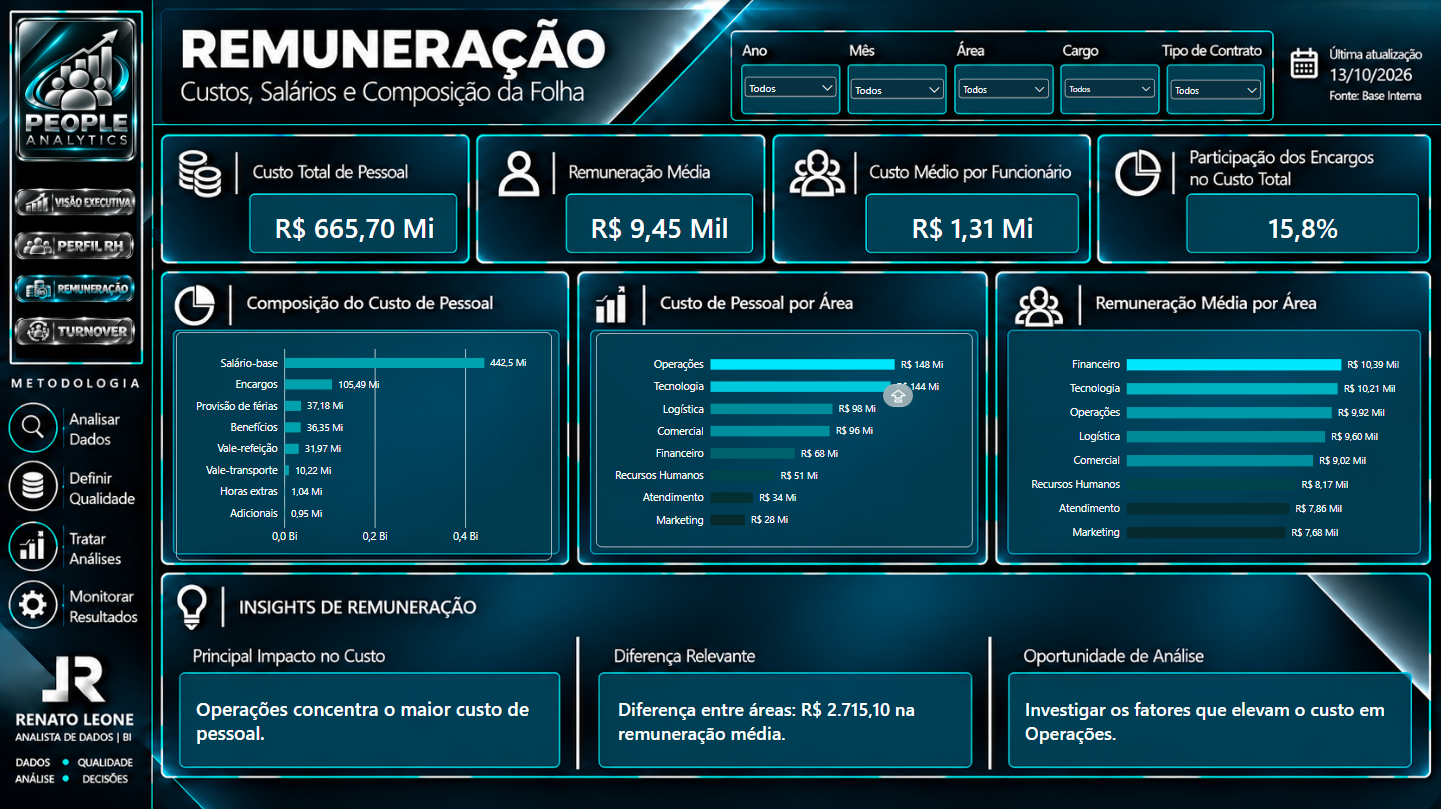

This screenshot's page, from the dashboard's own definition file:
{"tool":"powerbi","page":{"name":"REMUNERAÇÄO","canvas":[1920,1080],"ordinal":2},"visuals":[{"type":"image","box":[14,228,173,83],"z":0},{"type":"image","box":[15,291,171,70],"z":1000},{"type":"image","box":[15,345,172,79],"z":2000},{"type":"image","box":[15,407,170,67],"z":3000},{"type":"image","box":[11.4,22.9,181.4,195.7],"z":4000},{"type":"slicer","fields":{"Values":["funcionarios.area"]},"box":[1271.3,101.7,129.6,42.6],"z":4001},{"type":"slicer","fields":{"Values":["funcionarios.cargo_reduzido"]},"box":[1412.2,101.7,129.6,42.6],"z":4002},{"type":"slicer","fields":{"Values":["funcionarios.tipo_contrato"]},"box":[1553.3,102,130,42.7],"z":4003},{"type":"slicer","fields":{"Values":["dim_calendario.mes_nome_PT"]},"box":[1127.7,101.5,133.8,42.3],"z":4004},{"type":"slicer","fields":{"Values":["dim_calendario.ano"]},"box":[986.9,98.5,132.3,42.3],"z":4005},{"type":"cardVisual","fields":{"Data":["Medidas.Custo Total Pessoal"]},"box":[329.3,260,286.7,85.3],"z":4006},{"type":"cardVisual","fields":{"Data":["Medidas.Remuneração Média"]},"box":[736,260,286.7,85.3],"z":4007},{"type":"cardVisual","fields":{"Data":["Medidas.Custo Médio por Funcionário"]},"box":[1152,260,286.7,85.3],"z":4008},{"type":"cardVisual","fields":{"Data":["Medidas.Participação dos Encargos no Custo Total"]},"box":[1592,260,286.7,85.3],"z":4009},{"type":"clusteredBarChart","fields":{"Category":["Dim_Componente_Custo.Componente"],"Y":["Medidas.Valor Componente Custo"]},"box":[236,442.7,500,304],"z":4010},{"type":"clusteredBarChart","fields":{"Category":["funcionarios.area"],"Y":["Medidas.Custo Total Pessoal"]},"box":[794.7,444,501.3,285.3],"z":4011},{"type":"clusteredBarChart","fields":{"Category":["funcionarios.area"],"Y":["Medidas.Remuneração Média"]},"box":[1349.3,444,529.3,302.7],"z":4012},{"type":"cardVisual","fields":{"Data":["Medidas.Principal Impacto no Custo"]},"box":[246.7,898.7,489.3,120],"z":4013},{"type":"cardVisual","fields":{"Data":["Medidas.Diferença Relevante"]},"box":[808,898.7,456,120],"z":4014},{"type":"cardVisual","fields":{"Data":["Medidas.Oportunidade de Análise"]},"box":[1349.3,898.7,529.3,120],"z":4015}]}

Visuals, with their boxes in screenshot pixels (x1, y1, x2, y2), scaled from the page's 1920x1080 canvas onto the 1441x809 screenshot:
image: rect(11, 171, 140, 233)
image: rect(11, 218, 140, 270)
image: rect(11, 258, 140, 318)
image: rect(11, 305, 139, 355)
image: rect(9, 17, 145, 164)
slicer - funcionarios.area: rect(954, 76, 1051, 108)
slicer - funcionarios.cargo_reduzido: rect(1060, 76, 1157, 108)
slicer - funcionarios.tipo_contrato: rect(1166, 76, 1263, 108)
slicer - dim_calendario.mes_nome_PT: rect(846, 76, 947, 108)
slicer - dim_calendario.ano: rect(741, 74, 840, 105)
cardVisual - Medidas.Custo Total Pessoal: rect(247, 195, 462, 259)
cardVisual - Medidas.Remuneração Média: rect(552, 195, 768, 259)
cardVisual - Medidas.Custo Médio por Funcionário: rect(865, 195, 1080, 259)
cardVisual - Medidas.Participação dos Encargos no Custo Total: rect(1195, 195, 1410, 259)
clusteredBarChart - Dim_Componente_Custo.Componente x Medidas.Valor Componente Custo: rect(177, 332, 552, 559)
clusteredBarChart - funcionarios.area x Medidas.Custo Total Pessoal: rect(596, 333, 973, 546)
clusteredBarChart - funcionarios.area x Medidas.Remuneração Média: rect(1013, 333, 1410, 559)
cardVisual - Medidas.Principal Impacto no Custo: rect(185, 673, 552, 763)
cardVisual - Medidas.Diferença Relevante: rect(606, 673, 949, 763)
cardVisual - Medidas.Oportunidade de Análise: rect(1013, 673, 1410, 763)
